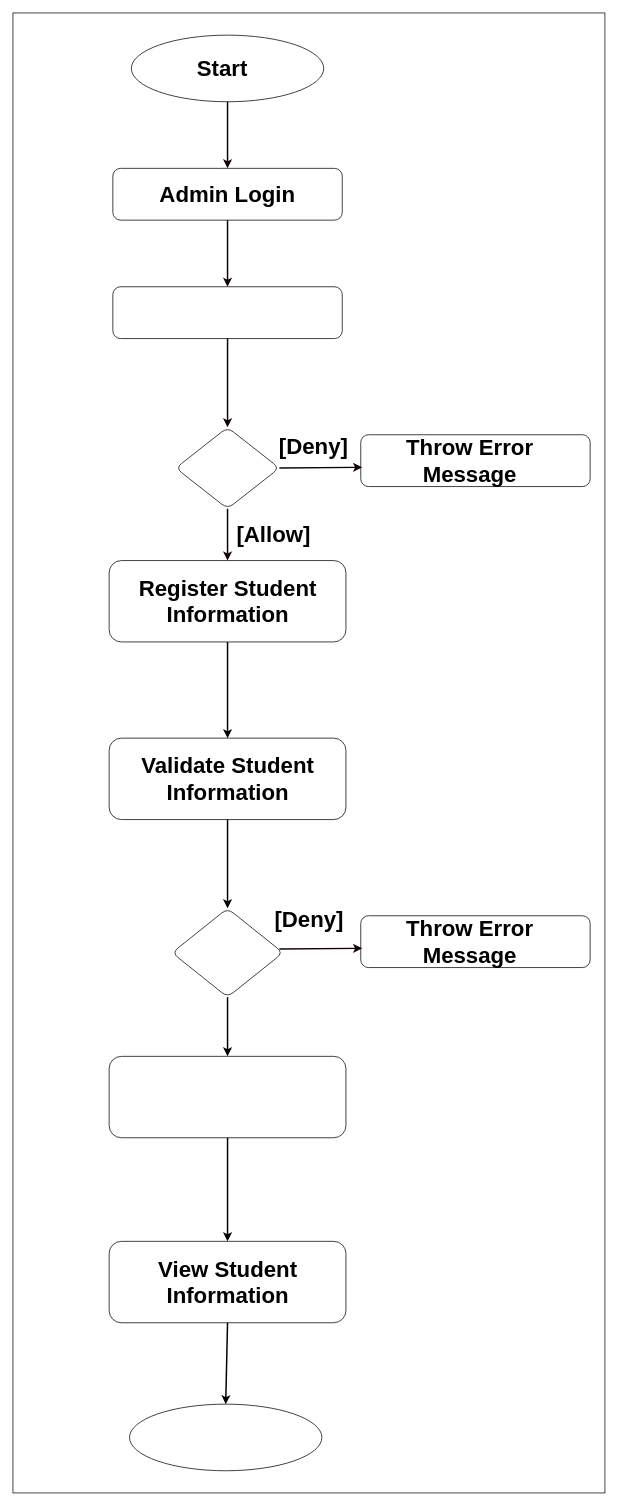
This 618x1506 diagram has some shape labels left out. The box of each missing label's shape, as (x1, y1, x2, y2) in pixels:
Authorize Admin: (112, 286, 342, 339)
End: (129, 1403, 322, 1471)
Insert Data into Database: (108, 1056, 346, 1138)
